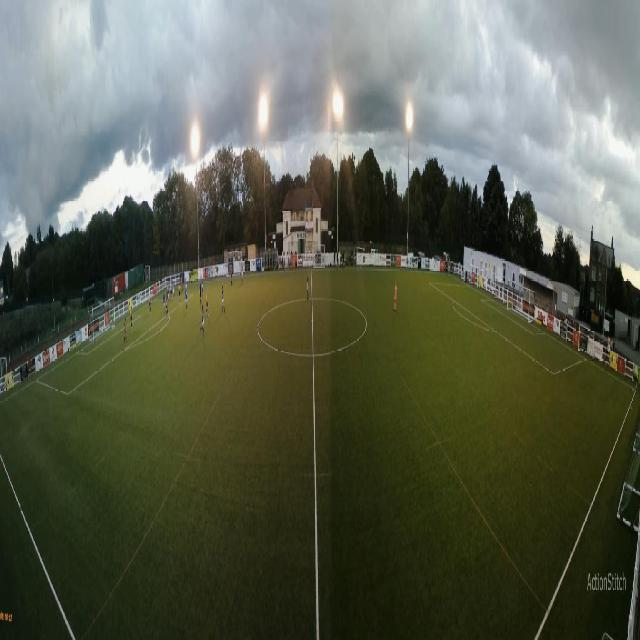ball: (172, 295, 173, 299)
player: (221, 284, 225, 314), (206, 290, 210, 319), (394, 277, 397, 312), (230, 266, 234, 290), (130, 306, 133, 331), (200, 275, 203, 296), (199, 283, 202, 303), (185, 287, 188, 307), (202, 306, 204, 335), (124, 316, 126, 343), (179, 281, 181, 306), (172, 282, 175, 298), (241, 262, 243, 283), (163, 292, 165, 313), (112, 309, 114, 330), (166, 294, 168, 313), (168, 285, 170, 304), (149, 294, 151, 313), (181, 277, 183, 294), (307, 270, 308, 299), (170, 285, 172, 299), (185, 278, 187, 287), (167, 284, 168, 299)
